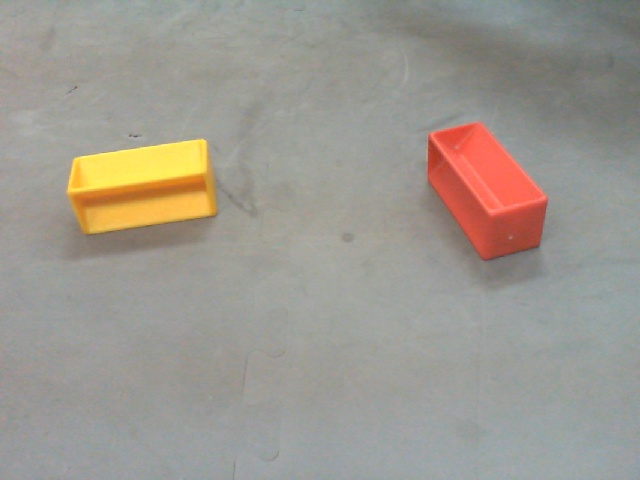RedSample: (426, 123, 549, 264)
YellowSample: (68, 134, 218, 237)
